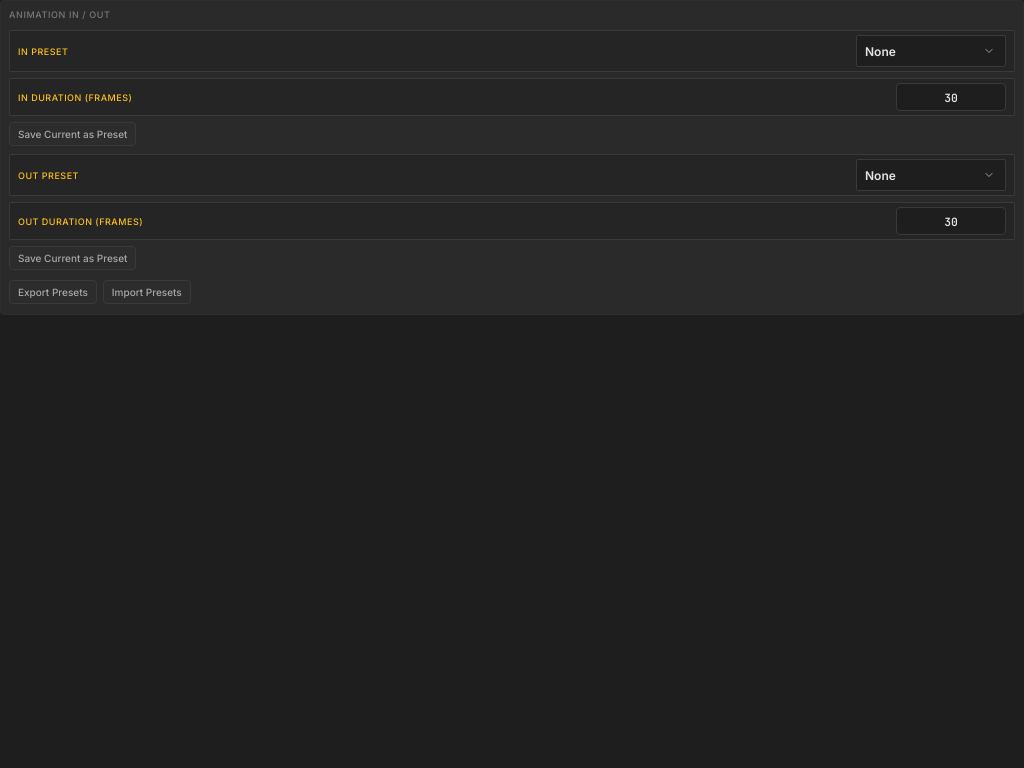
M25 25C — save current as preset › 4. save dialog opens with accessible labels
Click the 1st button titled "Save current animation as a custom preset". click: point(73, 134)
box: [9, 122, 136, 146]
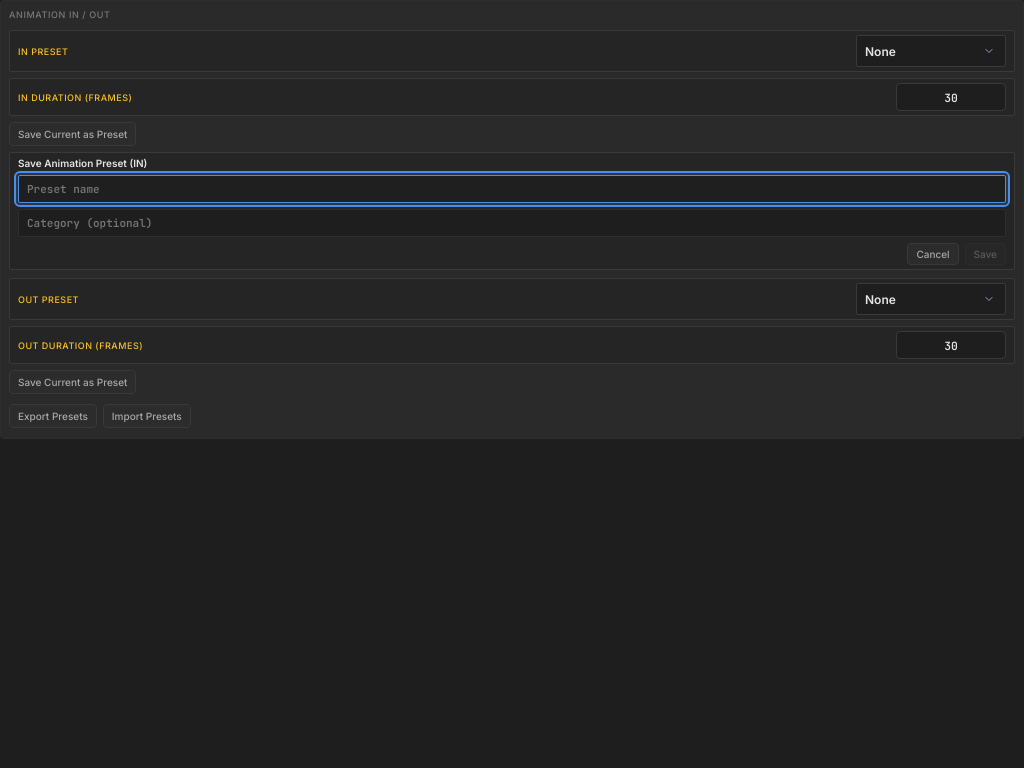
Check: the dialog "Save Animation Preset" is shown, box [9, 152, 1015, 270]
Check: the field labelled "Preset name" is shown, box [18, 175, 1006, 203]
Check: the text "Save Animation Preset (IN)" is shown, box [18, 157, 147, 169]
